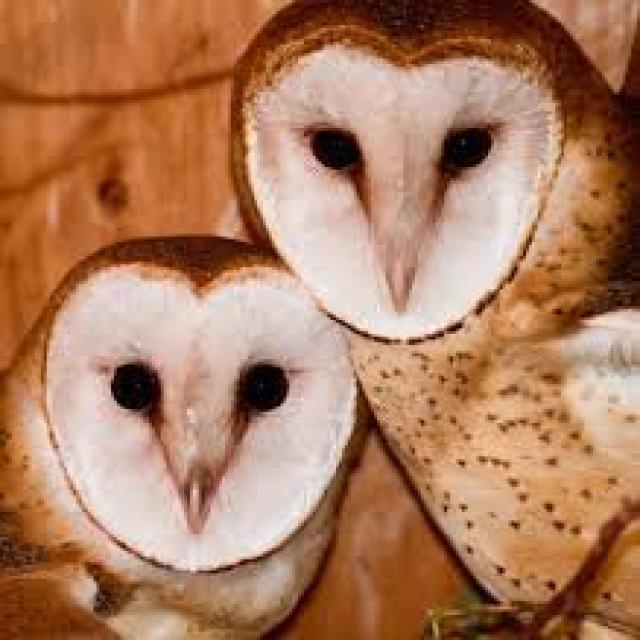Owl: (218, 0, 640, 640), (0, 235, 352, 637)
